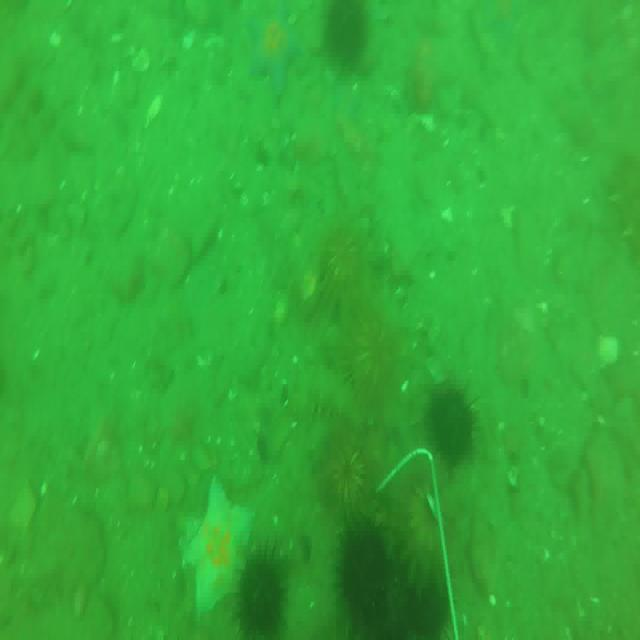echinus: (328, 521, 401, 640), (322, 418, 378, 526), (320, 222, 375, 314), (233, 549, 288, 640), (343, 310, 400, 396), (424, 381, 475, 465), (395, 566, 450, 640), (315, 3, 371, 70)
scallop: (142, 92, 163, 125), (132, 44, 153, 74), (303, 271, 318, 307), (275, 298, 287, 326)
starfish: (177, 474, 255, 616), (251, 0, 301, 94)
